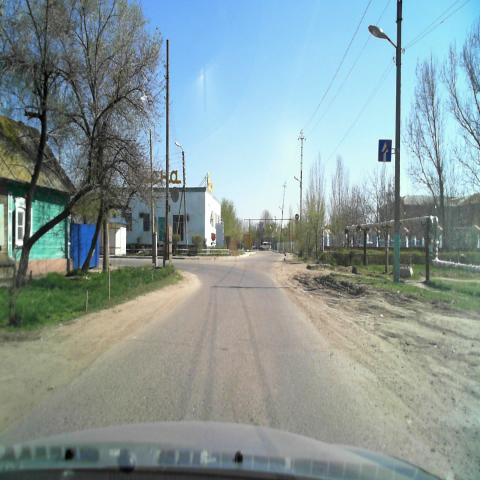5_6: (378, 138, 392, 162)
